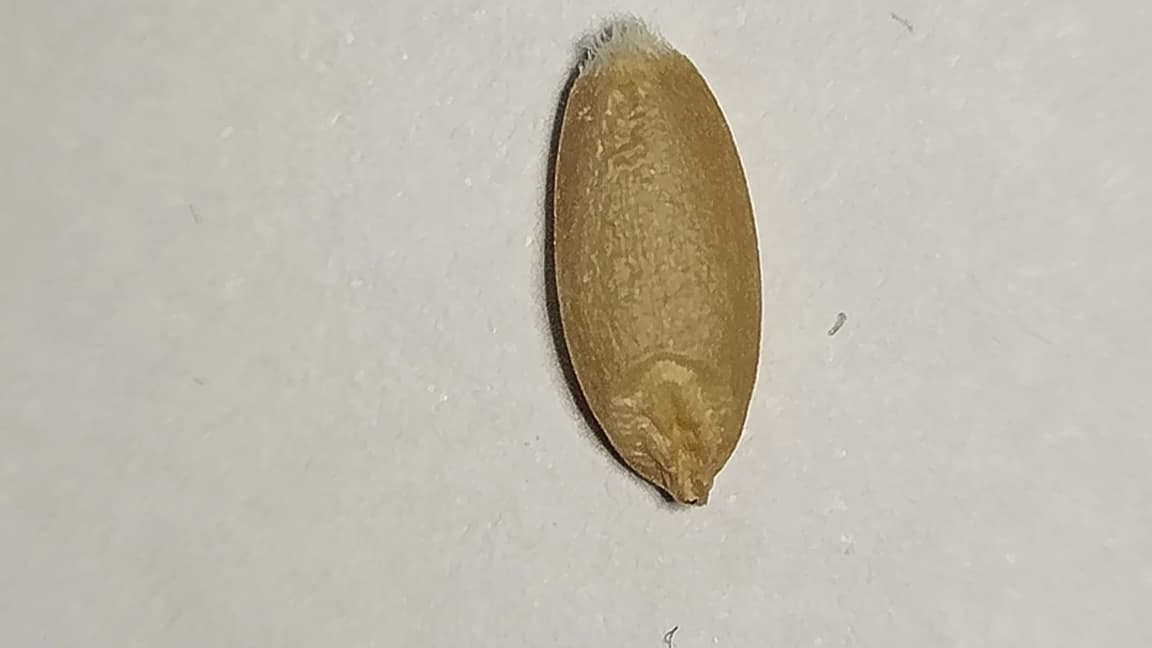healthy: (544, 19, 763, 505)
